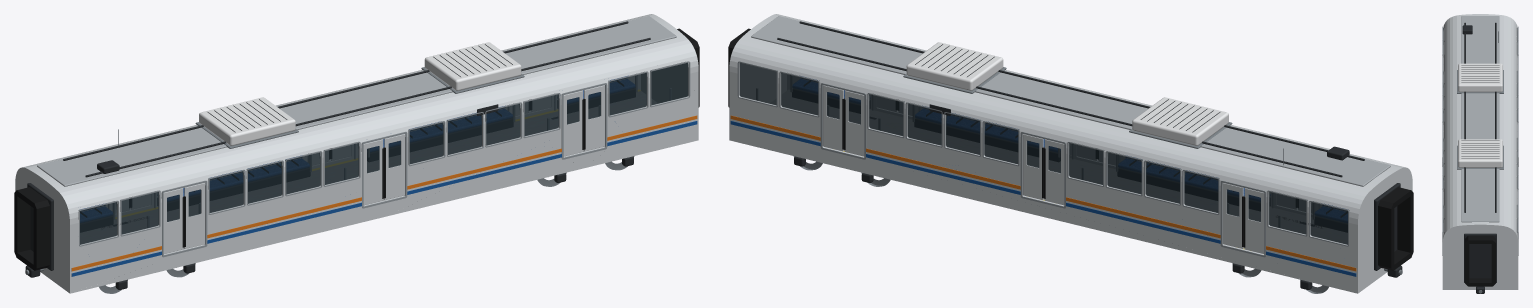
Rendered from train_313_mid.glb.
3 renders of one model, left to right at view 1: azimuth 30°, elevation 25°; view 2: azimuth 150°, elevation 25°; view 3: azimuth 270°, elevation 25°, orthographic. The views are drawn at different scales.
Visible parts, largest first — view 1: Body, Parts_WindowGlass, Parts_Roof, Parts_UnderDark, Parts_RoofWhite, Parts_Floor, DoorLeaf (×6), Parts_BodyTrim, Parts_Moquette, Parts_Rubber, Parts_StripeOrange, Parts_StripeBlue (+1 smaller); view 2: Body, Parts_WindowGlass, Parts_Roof, Parts_UnderDark, Parts_RoofWhite, Parts_Floor, DoorLeaf (×6), Parts_BodyTrim, Parts_Moquette, Parts_Rubber, Parts_StripeOrange, Parts_StripeBlue (+1 smaller); view 3: Body, Parts_Roof, Parts_RoofWhite, Parts_UnderDark, Parts_Rubber, Parts_BodyTrim, Parts_WindowGlass, Parts_Steel.
Part boxes in pixels (bbox=[...]): Body: bbox=[15, 14, 698, 293]; Parts_WindowGlass: bbox=[78, 62, 688, 244]; Parts_Roof: bbox=[37, 16, 676, 186]; Parts_UnderDark: bbox=[25, 21, 650, 277]; Parts_RoofWhite: bbox=[199, 42, 521, 145]; Parts_Floor: bbox=[80, 90, 657, 249]; DoorLeaf (×6): bbox=[163, 85, 604, 253]; Parts_BodyTrim: bbox=[78, 61, 690, 257]; Parts_Moquette: bbox=[80, 75, 635, 222]; Parts_Rubber: bbox=[14, 28, 699, 270]; Parts_StripeOrange: bbox=[71, 115, 697, 271]; Parts_StripeBlue: bbox=[71, 121, 697, 276]; Body: bbox=[729, 14, 1412, 293]; Parts_WindowGlass: bbox=[739, 62, 1349, 244]; Parts_Roof: bbox=[751, 16, 1390, 186]; Parts_UnderDark: bbox=[777, 21, 1402, 277]; Parts_RoofWhite: bbox=[906, 42, 1228, 145]; Parts_Floor: bbox=[770, 90, 1347, 249]; DoorLeaf (×6): bbox=[823, 85, 1264, 253]; Parts_BodyTrim: bbox=[737, 61, 1349, 257]; Parts_Moquette: bbox=[792, 75, 1347, 222]; Parts_Rubber: bbox=[728, 28, 1413, 270]; Parts_StripeOrange: bbox=[730, 115, 1356, 271]; Parts_StripeBlue: bbox=[730, 121, 1356, 276]; Body: bbox=[1442, 14, 1518, 289]; Parts_Roof: bbox=[1461, 16, 1499, 222]; Parts_RoofWhite: bbox=[1458, 63, 1502, 167]; Parts_UnderDark: bbox=[1442, 22, 1518, 293]; Parts_Rubber: bbox=[1465, 235, 1495, 286]; Parts_BodyTrim: bbox=[1442, 26, 1518, 255]; Parts_WindowGlass: bbox=[1443, 27, 1517, 232]; Parts_Steel: bbox=[1457, 31, 1503, 293].
Size of the model in its own units: 20.56 by 4.18 by 2.97.
Materials: 17 (4 with a texture image).
